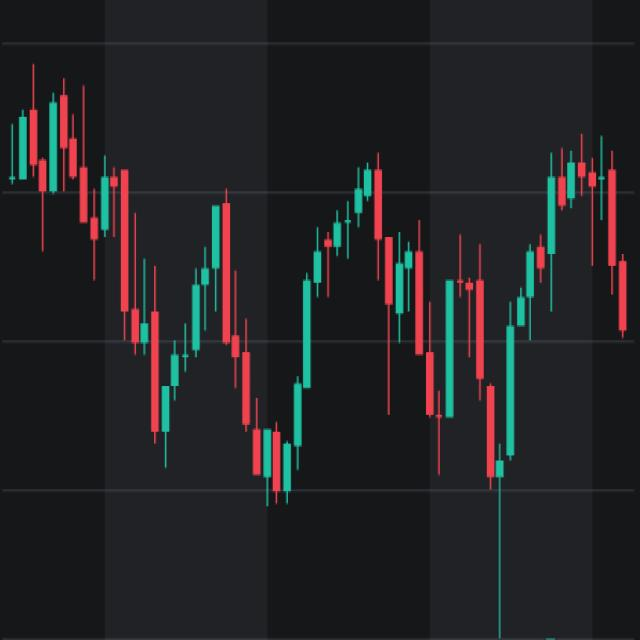Resistance-Emerging: (9, 56, 638, 502)
